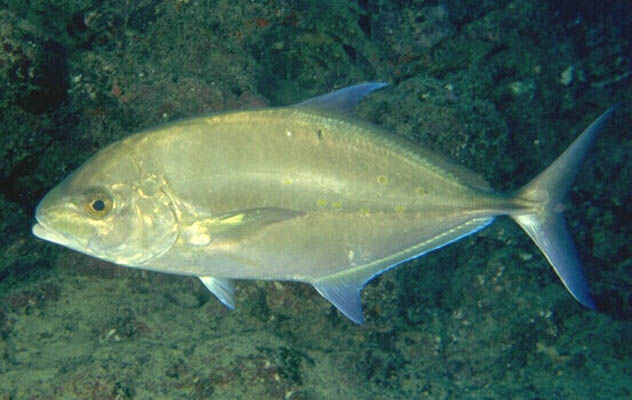fish: (33, 82, 616, 324)
